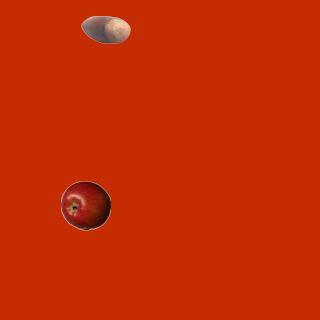Apple Braeburn: (60, 180, 110, 230)
Hazelnut: (80, 4, 130, 54)
